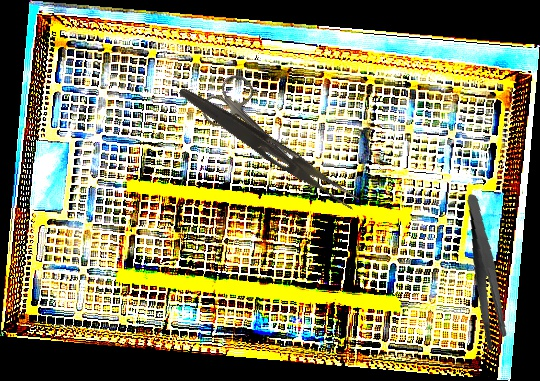Dressing Forceps: (172, 84, 364, 211), (451, 193, 521, 353)
Iris Scissors: (195, 68, 313, 184)
